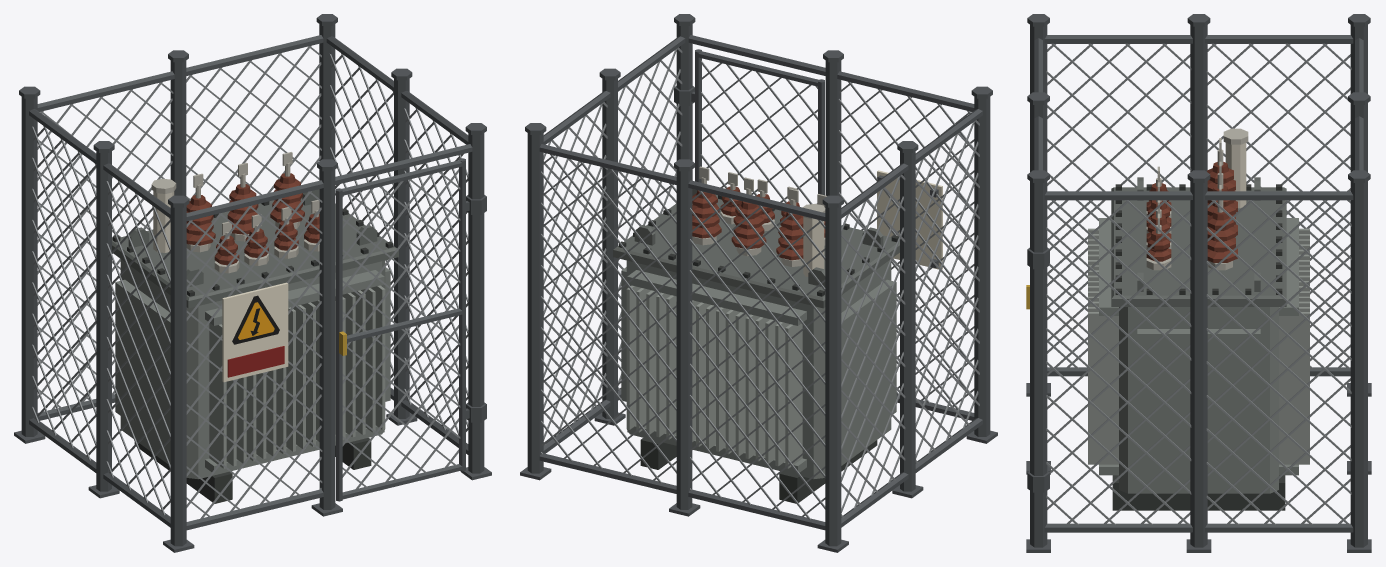
Rendered from Transformer.fbx.
The picture shows the model from 3 angles, left to right: view 1: azimuth 30°, elevation 25°; view 2: azimuth 150°, elevation 25°; view 3: azimuth 270°, elevation 25°; orthographic projection. The views are drawn at different scales.
Visible parts, largest first — view 1: Transformer_CageFrame, Transformer_CageMesh, Transformer_Fins, Transformer_Tank, Transformer_Cover, Transformer_GateMesh, Transformer_GateFrame, Transformer_Porcelain, Transformer_SignPlate, Transformer_Hardware, Transformer_Skids, Transformer_SignBand (+4 smaller); view 2: Transformer_CageFrame, Transformer_CageMesh, Transformer_Fins, Transformer_Tank, Transformer_Cover, Transformer_Porcelain, Transformer_GateMesh, Transformer_GateFrame, Transformer_SignPlate, Transformer_Skids, Transformer_Hardware, Transformer_Breather (+1 smaller); view 3: Transformer_CageFrame, Transformer_CageMesh, Transformer_Tank, Transformer_Cover, Transformer_Fins, Transformer_Porcelain, Transformer_Skids, Transformer_Hardware, Transformer_Bolts, Transformer_Breather.
Part boxes in pixels (bbox=[...]): Transformer_CageFrame: bbox=[14, 14, 491, 552]; Transformer_CageMesh: bbox=[32, 45, 468, 518]; Transformer_Fins: bbox=[209, 285, 385, 468]; Transformer_Tank: bbox=[115, 259, 390, 479]; Transformer_Cover: bbox=[112, 189, 398, 308]; Transformer_GateMesh: bbox=[342, 169, 460, 489]; Transformer_GateFrame: bbox=[336, 158, 469, 501]; Transformer_Porcelain: bbox=[186, 173, 319, 265]; Transformer_SignPlate: bbox=[222, 282, 288, 382]; Transformer_Hardware: bbox=[151, 152, 319, 273]; Transformer_Skids: bbox=[134, 438, 371, 503]; Transformer_SignBand: bbox=[227, 346, 284, 377]; Transformer_CageFrame: bbox=[520, 14, 997, 552]; Transformer_CageMesh: bbox=[541, 47, 979, 519]; Transformer_Fins: bbox=[626, 285, 802, 468]; Transformer_Tank: bbox=[621, 260, 896, 479]; Transformer_Cover: bbox=[613, 189, 899, 308]; Transformer_Porcelain: bbox=[692, 186, 825, 260]; Transformer_GateMesh: bbox=[700, 60, 817, 204]; Transformer_GateFrame: bbox=[691, 49, 824, 195]; Transformer_SignPlate: bbox=[877, 170, 942, 269]; Transformer_Skids: bbox=[640, 438, 877, 503]; Transformer_Hardware: bbox=[692, 166, 826, 266]; Transformer_Breather: bbox=[803, 217, 824, 276]; Transformer_CageFrame: bbox=[1026, 14, 1371, 552]; Transformer_CageMesh: bbox=[1046, 43, 1351, 524]; Transformer_Tank: bbox=[1099, 218, 1298, 493]; Transformer_Cover: bbox=[1111, 177, 1286, 306]; Transformer_Fins: bbox=[1088, 228, 1309, 464]; Transformer_Porcelain: bbox=[1146, 162, 1237, 262]; Transformer_Skids: bbox=[1112, 475, 1285, 510]; Transformer_Hardware: bbox=[1146, 128, 1248, 270]; Transformer_Bolts: bbox=[1115, 184, 1282, 294]; Transformer_Breather: bbox=[1225, 143, 1246, 208].
Size of the model in its own units: 6.4 by 6.68 by 5.6.
